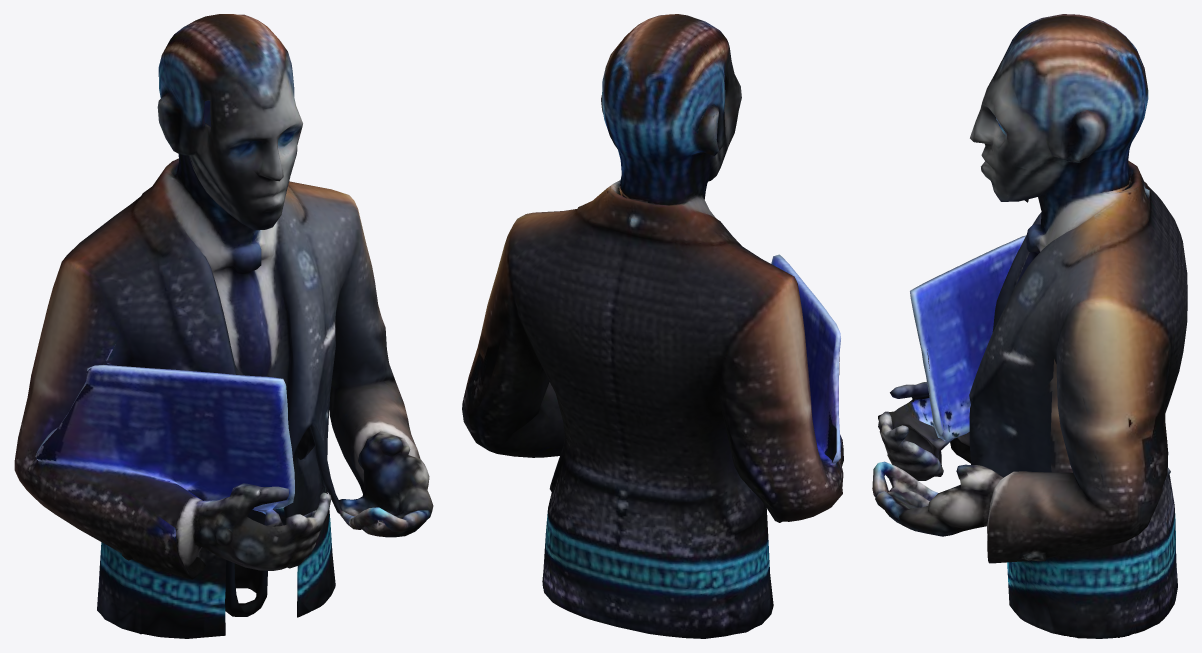
File: modello.glb
The picture shows the model from 3 angles, left to right: view 1: azimuth 30°, elevation 25°; view 2: azimuth 150°, elevation 25°; view 3: azimuth 270°, elevation 25°; orthographic projection. The views are drawn at different scales.
Parts seen in each view (by area): view 1: agente; view 2: agente; view 3: agente.
Boxes of the visible parts, x1,y1,x2,y2 form: agente: [14, 14, 433, 638]; agente: [462, 14, 843, 638]; agente: [872, 14, 1187, 638].
Size of the model in its own units: 0.6708 by 1 by 0.5039.
1 material, 1 textured.
